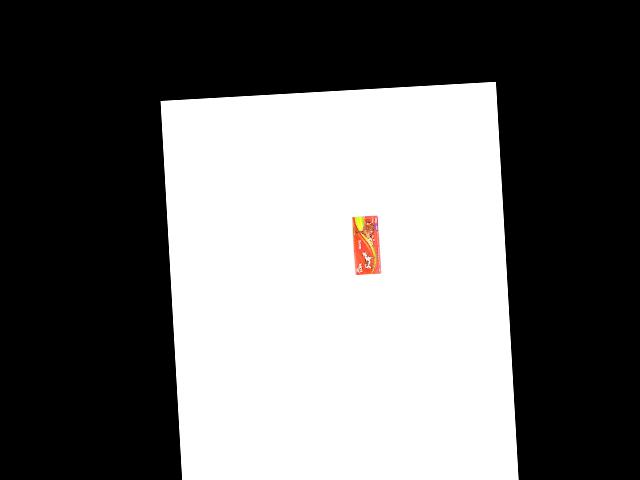chocolate: (349, 213, 386, 279)
